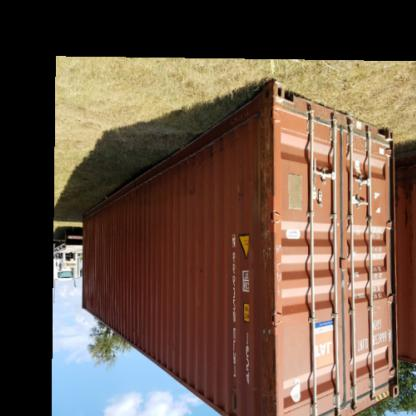Damage: (257, 92, 286, 272), (166, 182, 210, 210), (119, 324, 156, 345), (87, 216, 99, 254), (80, 286, 96, 308)
